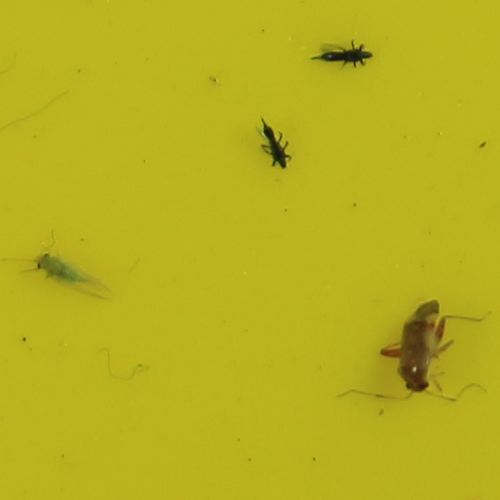Glycaspis: (35, 254, 90, 283)
